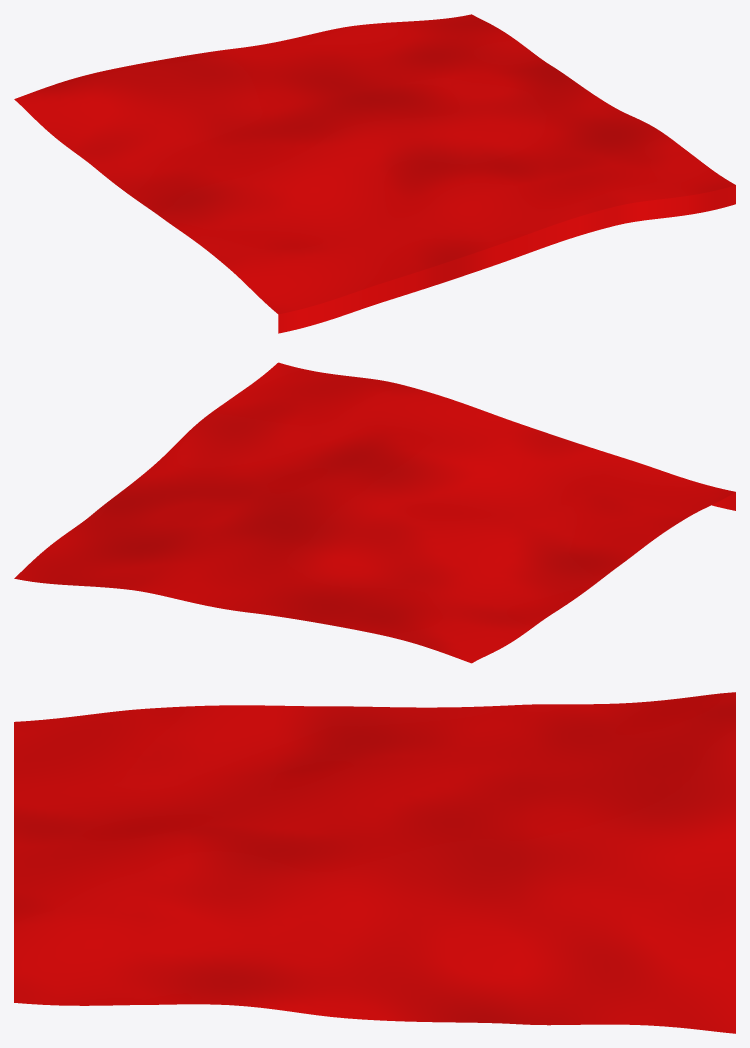
Rendered from terrain_1_0.glb.
3 views of the same model, one above another, from view 1: azimuth 30°, elevation 25°; view 2: azimuth 150°, elevation 25°; view 3: azimuth 270°, elevation 25° (orthographic). The views are drawn at different scales.
Visible parts, largest first — view 1: terrain_1_0.0, terrain_1_0.1; view 2: terrain_1_0.0; view 3: terrain_1_0.0.
Boxes of the visible parts, x1,y1,x2,y2 form: terrain_1_0.0: (14, 14, 735, 314); terrain_1_0.1: (278, 185, 735, 333); terrain_1_0.0: (14, 362, 735, 663); terrain_1_0.0: (14, 692, 735, 1033).
Size of the model in its own units: 50 by 5.01 by 50.
